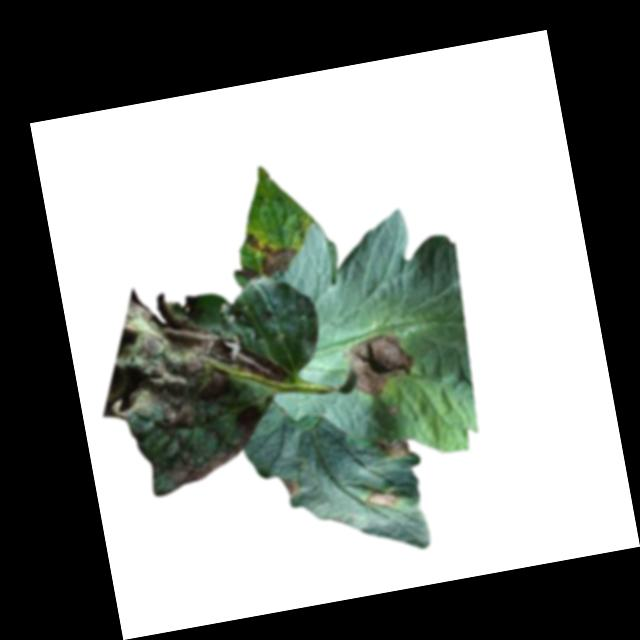Early_blight: (84, 265, 305, 505), (341, 328, 416, 401), (244, 224, 302, 281), (374, 436, 411, 465), (365, 489, 400, 513), (276, 474, 302, 503), (234, 263, 261, 286)
